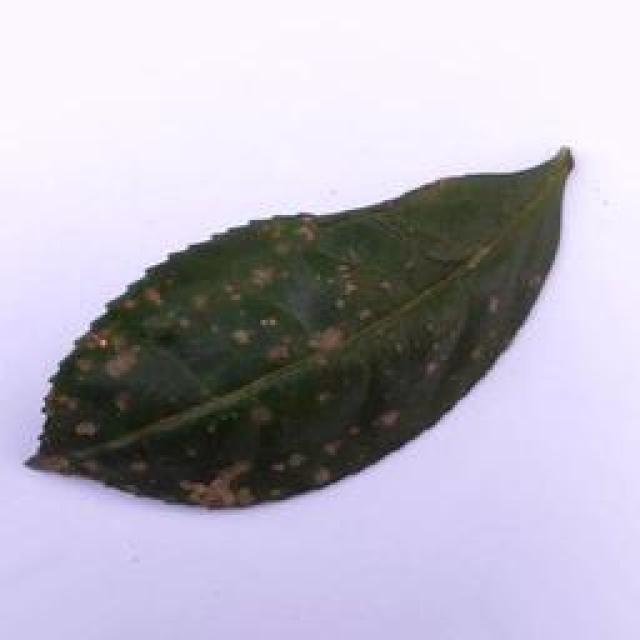Algal Leaf Spot: (31, 143, 583, 515)
